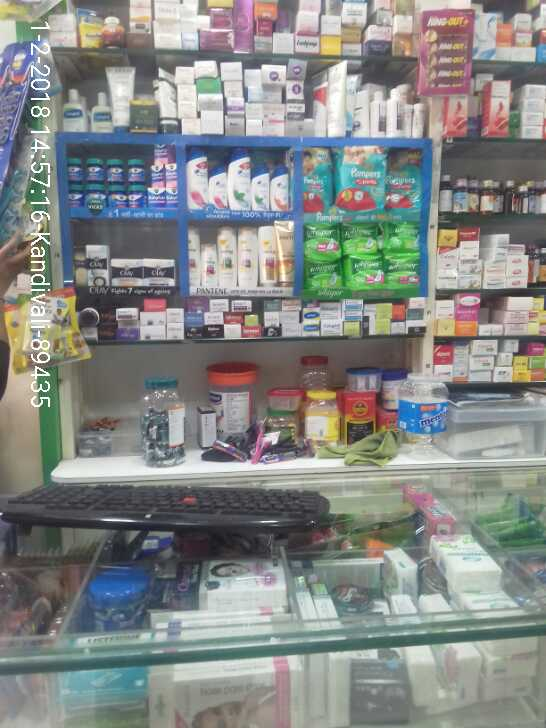vicks: (65, 143, 175, 208)
